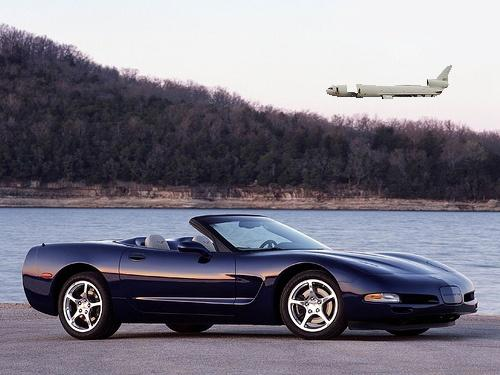tampered: (327, 66, 452, 99)
